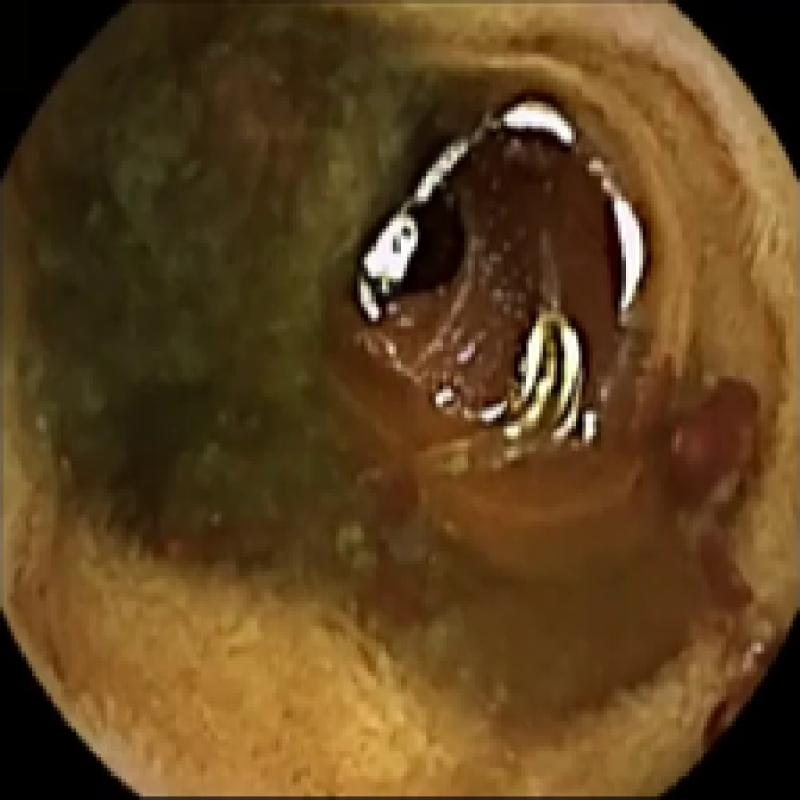bleeding: (350, 86, 661, 368), (645, 374, 770, 520)
